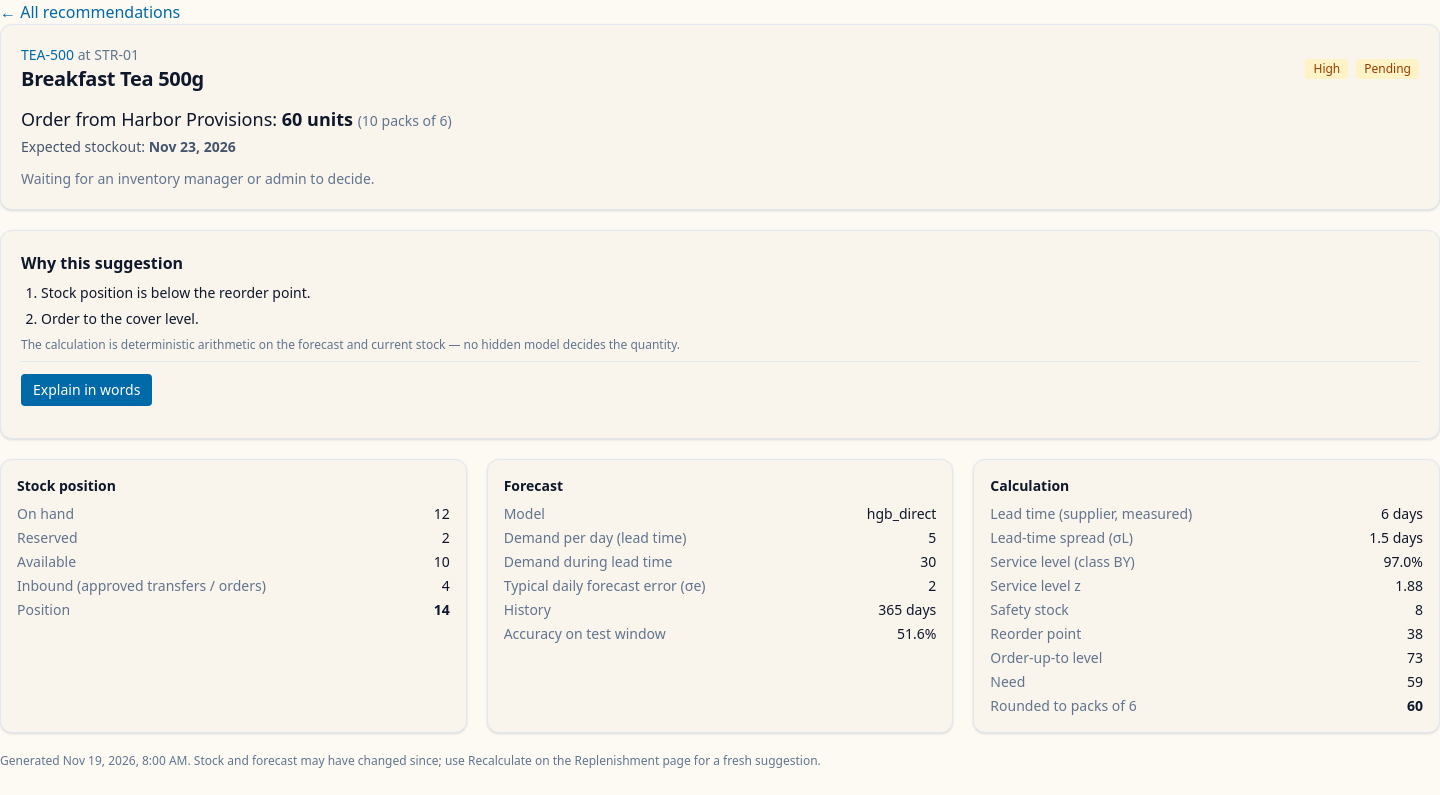
Test: recommendation explanation in words › requests an explanation only after the button is pressed and labels template output
Click the button "Explain in words" at {"x": 87, "y": 390}, box [21,374,152,406]
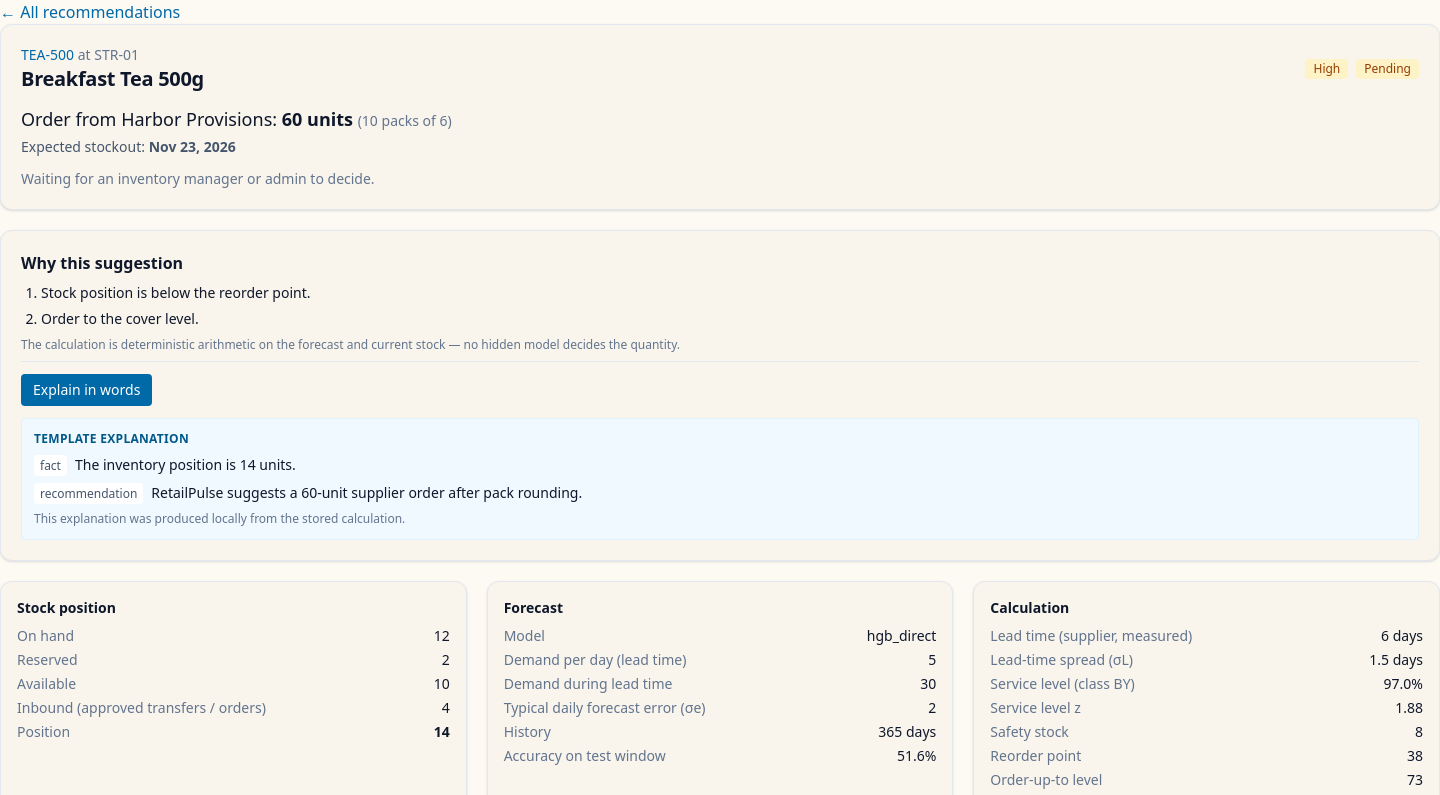
Expected: the text "Template explanation" is shown, [34,430,189,447]
Expected: the text "recommendation" is shown, [34,483,143,504]
Expected: the text "60-unit supplier order" is shown, [151,483,582,502]
